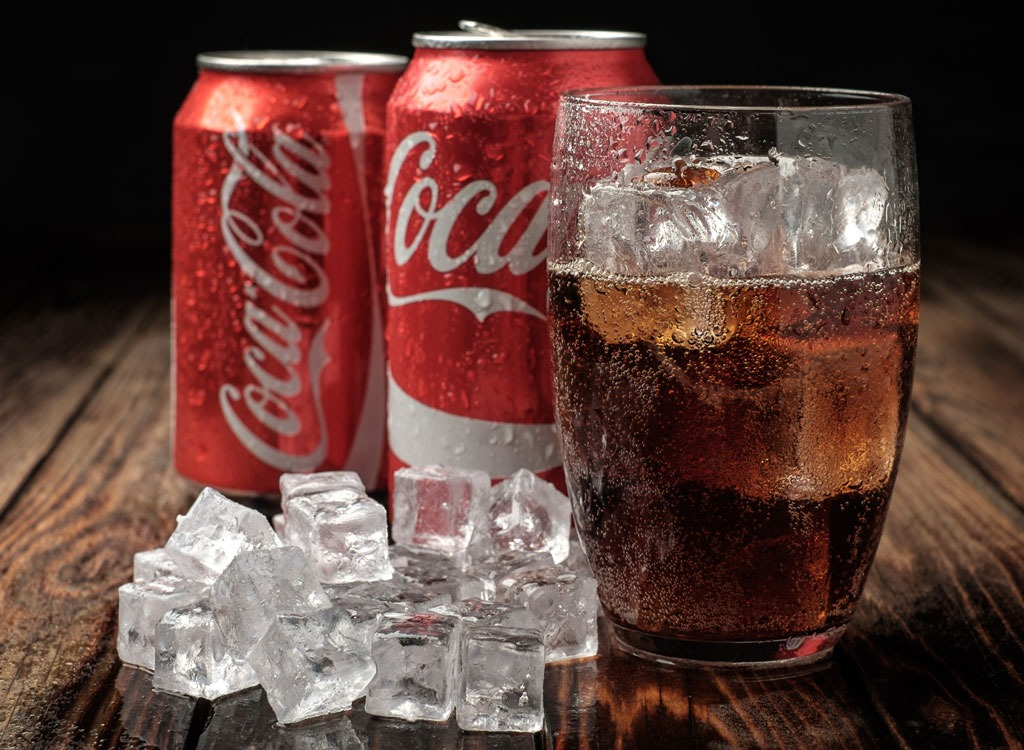coke: (168, 48, 377, 495), (391, 31, 558, 491)
